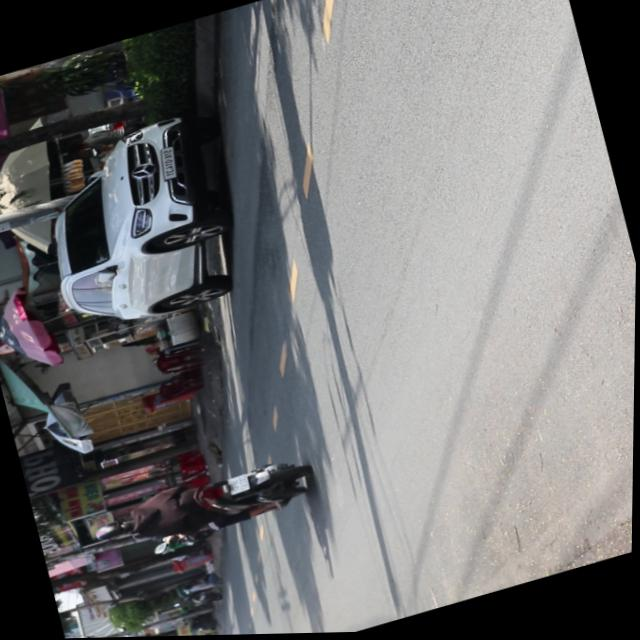helmet: (93, 515, 135, 543)
licenseplate: (87, 448, 319, 564)
nohelmet: (228, 473, 251, 494)
